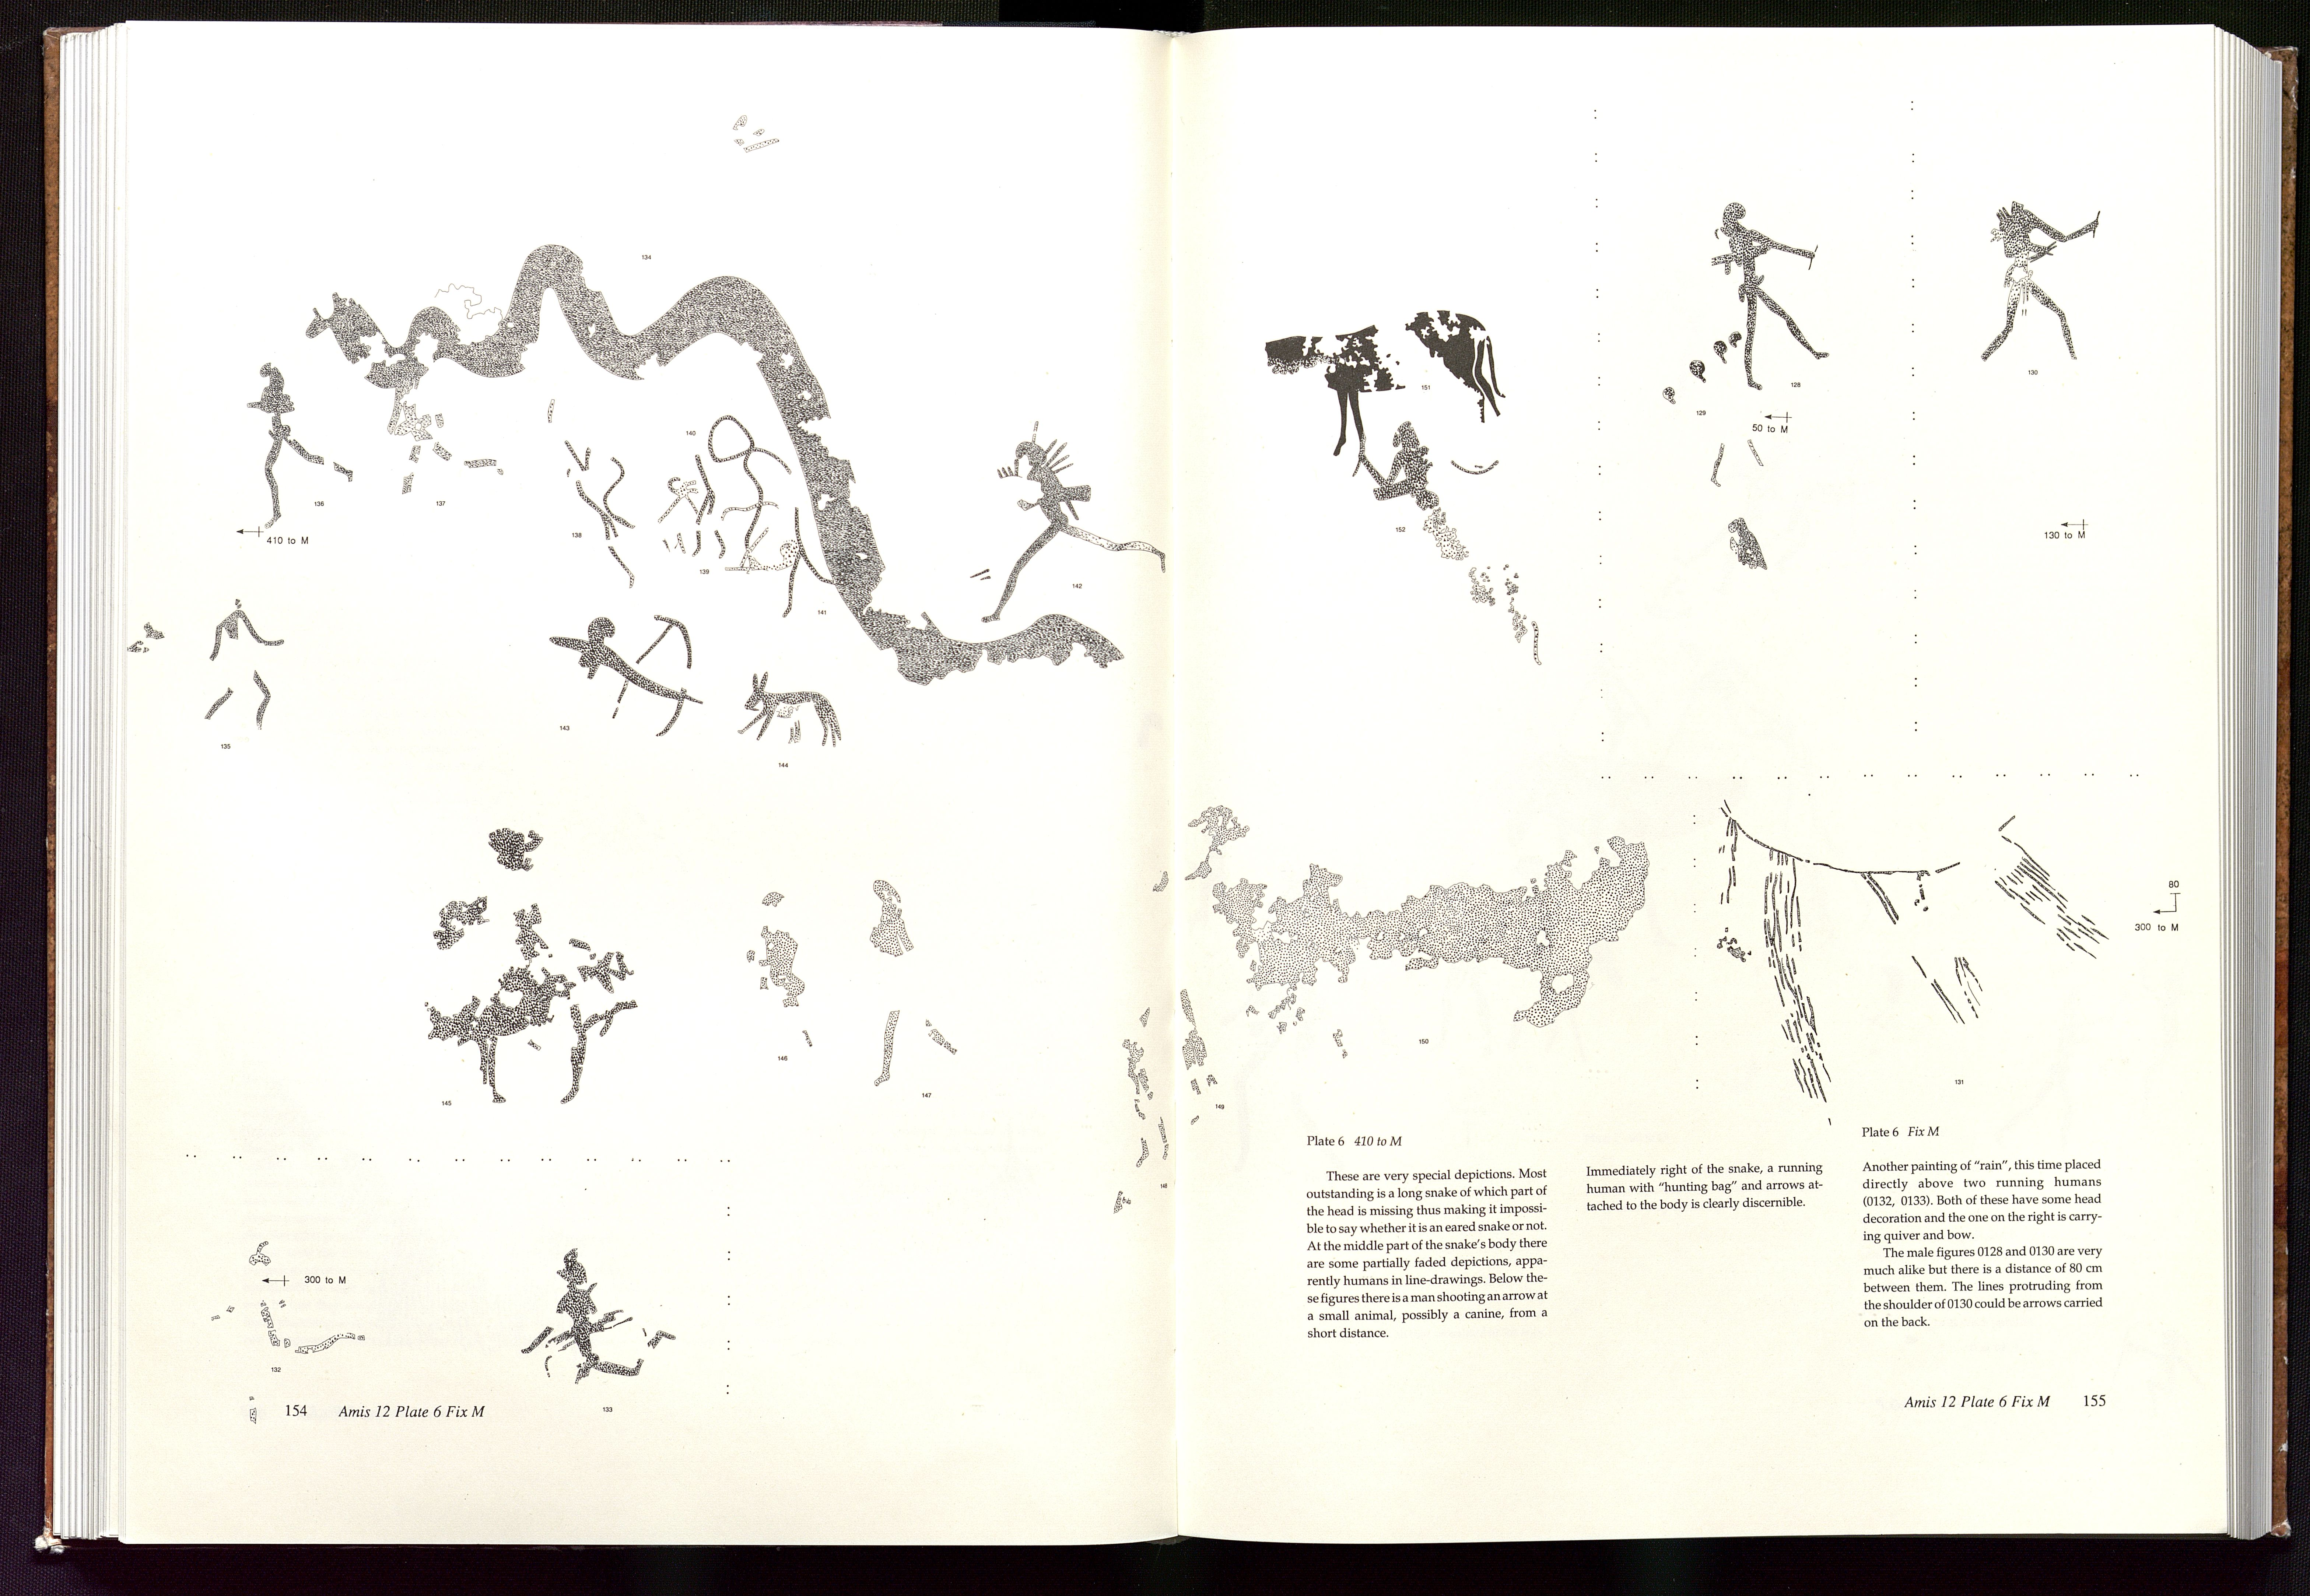animal: (1256, 301, 1517, 470)
human: (972, 421, 1171, 627), (702, 404, 861, 632), (839, 873, 977, 1094), (1706, 193, 1844, 396), (235, 355, 360, 558), (1971, 197, 2109, 379), (191, 593, 294, 743)
